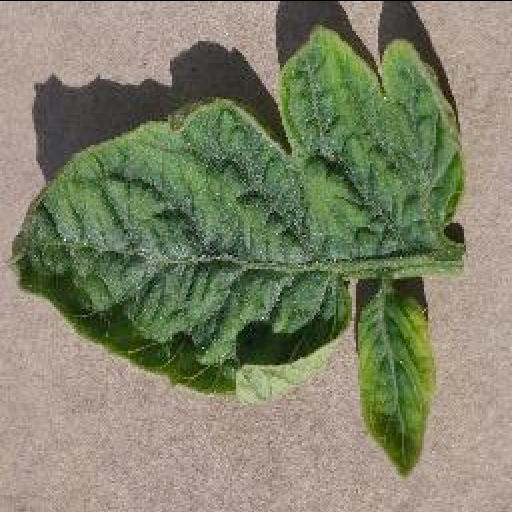disease_tomato: (8, 24, 464, 401), (354, 286, 434, 474)
